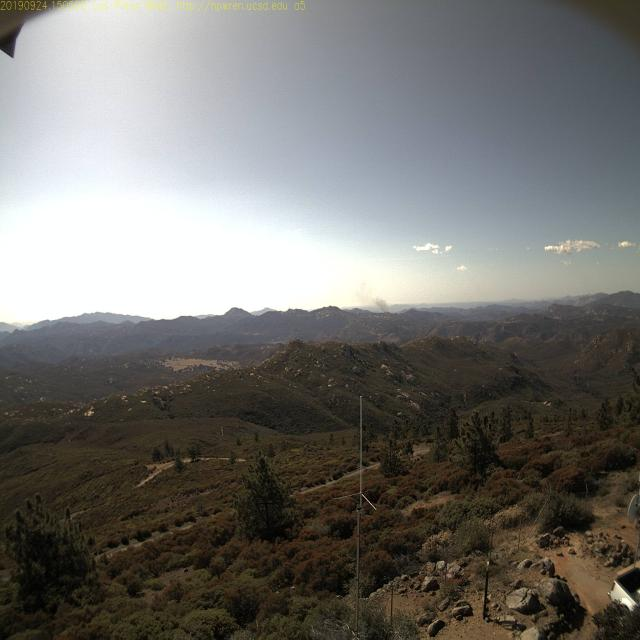smoke: (370, 292, 392, 316)
